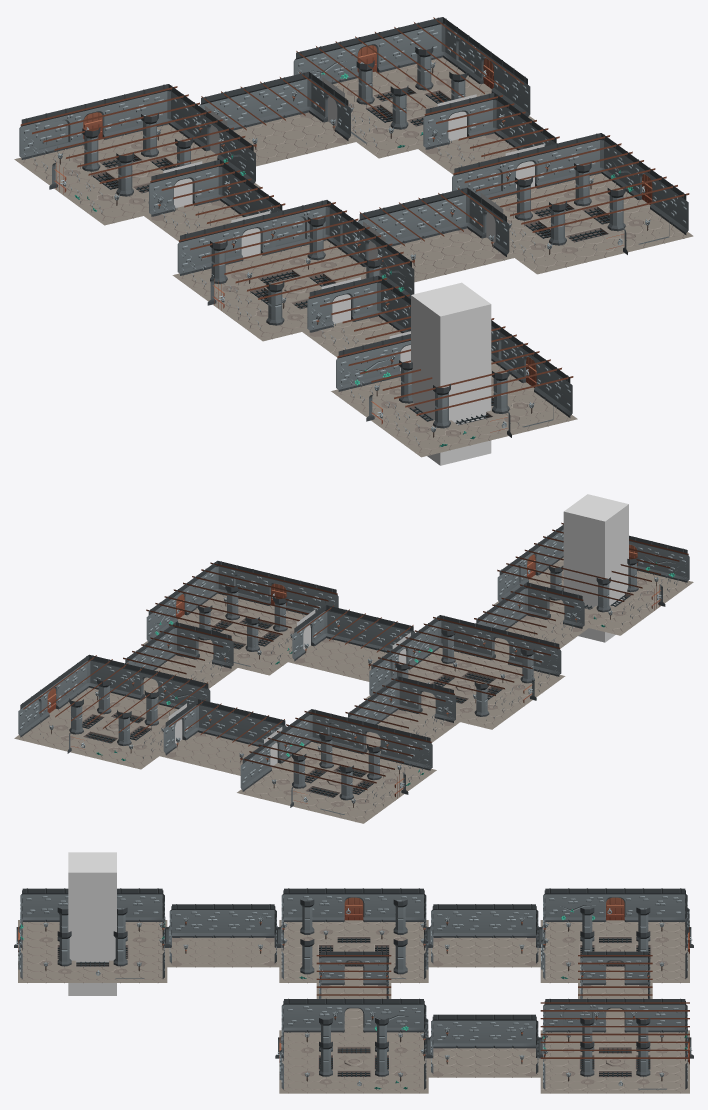
Rendered from level30.glb.
3 views of the same model, one above another, from view 1: azimuth 30°, elevation 25°; view 2: azimuth 150°, elevation 25°; view 3: azimuth 270°, elevation 25° (orthographic). The views are drawn at different scales.
Visible parts, largest first — view 1: arx_zone__100__spawn, floor_tile_extralarge_grates (×5), wall.017 (×3), floor_tile_large.001 (×4), wall.016 (×2), wall_doorway.005 (×3), wall_arched.003 (×2), wall.025 (×2), wall_cracked.003 (×2), wall.026 (×2), wall_doorway.011 (×2), wall_doorway.013 (×2) (+39 smaller); view 2: arx_zone__100__spawn, floor_tile_extralarge_grates (×4), wall.019 (×4), wall.018 (×2), floor_tile_large.001 (×3), wall.027 (×2), wall_arched.003 (×2), wall_cracked.004 (×2), wall.026 (×2), wall_doorway.013 (×2), wall_doorway.006 (×2), wall_corner.011 (×2) (+37 smaller); view 3: floor_tile_extralarge_grates (×5), arx_zone__100__spawn, floor_tile_large.003 (×5), wall.016 (×2), wall.017 (×2), wall_corner.009 (×4), floor_tile_large.002 (×3), floor_tile_large.013 (×3), floor_tile_large.001 (×3), floor_tile_large.012 (×3), floor_tile_large.017 (×3), floor_tile_large.018 (×3) (+53 smaller).
Boxes of the visible parts, x1=… form: arx_zone__100__spawn: x1=411, y1=282, x2=491, y2=465; floor_tile_extralarge_grates (×5): x1=76, y1=83, x2=631, y2=430; wall.017 (×3): x1=214, y1=85, x2=413, y2=333; floor_tile_large.001 (×4): x1=166, y1=118, x2=498, y2=259; wall.016 (×2): x1=253, y1=75, x2=452, y2=240; wall_doorway.005 (×3): x1=164, y1=96, x2=500, y2=250; wall_arched.003 (×2): x1=35, y1=23, x2=476, y2=156; wall.025 (×2): x1=387, y1=20, x2=680, y2=228; wall_cracked.003 (×2): x1=309, y1=39, x2=634, y2=195; wall.026 (×2): x1=113, y1=56, x2=521, y2=137; wall_doorway.011 (×2): x1=348, y1=30, x2=657, y2=211; wall_doorway.013 (×2): x1=74, y1=40, x2=499, y2=146; arx_zone__100__spawn: x1=563, y1=494, x2=628, y2=642; floor_tile_extralarge_grates (×4): x1=64, y1=615, x2=514, y2=802; wall.019 (×4): x1=148, y1=616, x2=402, y2=746; wall.018 (×2): x1=209, y1=608, x2=371, y2=742; floor_tile_large.001 (×3): x1=173, y1=618, x2=569, y2=756; wall.027 (×2): x1=101, y1=657, x2=267, y2=786; wall_arched.003 (×2): x1=25, y1=563, x2=262, y2=732; wall_cracked.004 (×2): x1=164, y1=673, x2=304, y2=759; wall.026 (×2): x1=62, y1=579, x2=325, y2=705; wall_doorway.013 (×2): x1=43, y1=571, x2=294, y2=718; wall_doorway.006 (×2): x1=188, y1=625, x2=443, y2=719; wall_corner.011 (×2): x1=189, y1=605, x2=339, y2=736; floor_tile_extralarge_grates (×5): x1=55, y1=935, x2=652, y2=1077; arx_zone__100__spawn: x1=68, y1=852, x2=116, y2=995; floor_tile_large.003 (×5): x1=242, y1=943, x2=633, y2=1069; wall.016 (×2): x1=484, y1=904, x2=521, y2=1048; wall.017 (×2): x1=447, y1=904, x2=484, y2=1048; wall_corner.009 (×4): x1=372, y1=904, x2=650, y2=1051; floor_tile_large.002 (×3): x1=204, y1=943, x2=503, y2=1069; floor_tile_large.013 (×3): x1=279, y1=943, x2=689, y2=1093; floor_tile_large.001 (×3): x1=167, y1=943, x2=540, y2=1069; floor_tile_large.012 (×3): x1=335, y1=920, x2=689, y2=1093; floor_tile_large.017 (×3): x1=279, y1=967, x2=689, y2=1093; floor_tile_large.018 (×3): x1=279, y1=920, x2=689, y2=1093.
Bounding box in the file's own units: 44.86 × 14.56 × 72.86.
Materials: 15 (15 with a texture image).
